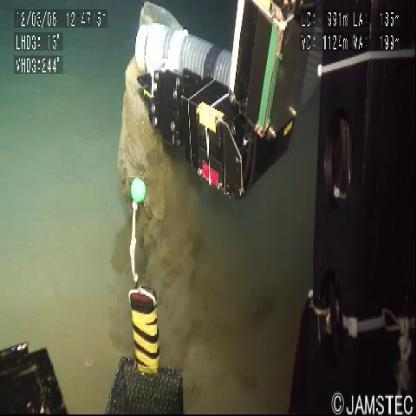Rác: (119, 57, 203, 298)
